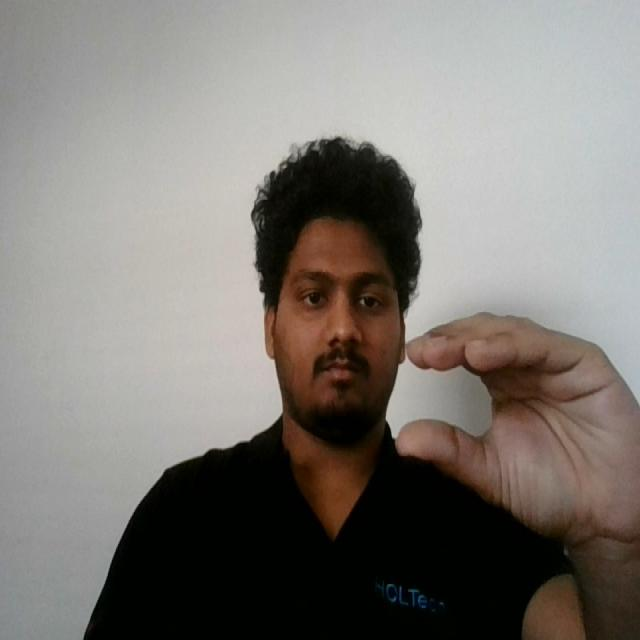No: (391, 302, 640, 568)
